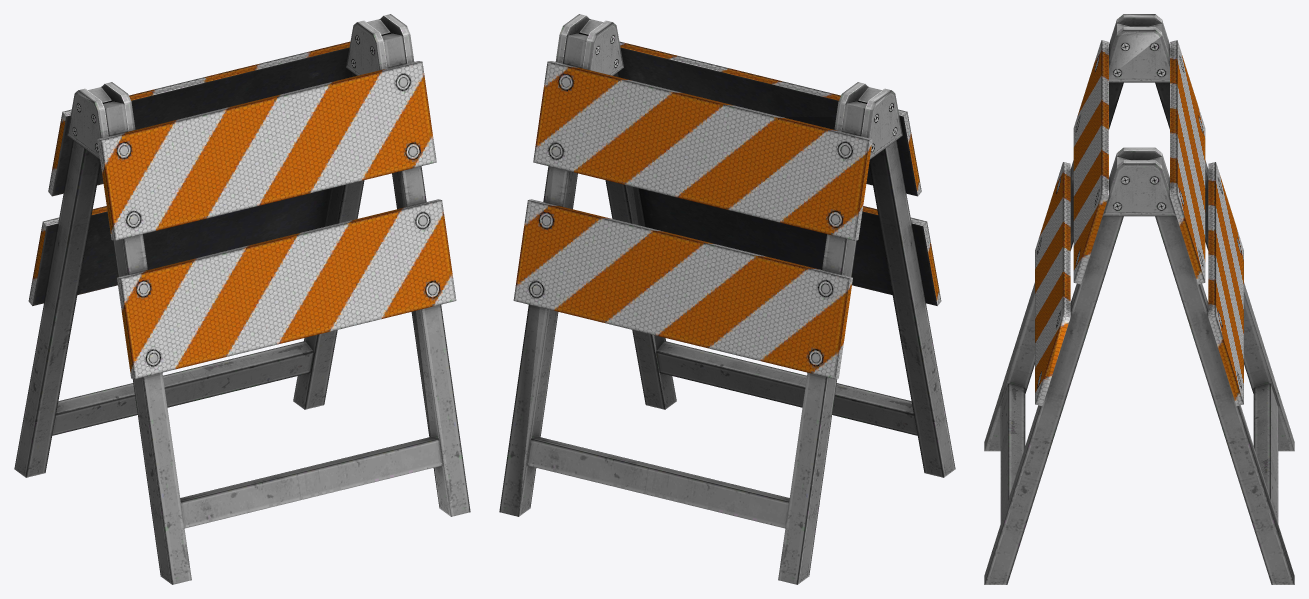
File: caution barrier (16).fbx
3 renders of one model, left to right at view 1: azimuth 30°, elevation 25°; view 2: azimuth 150°, elevation 25°; view 3: azimuth 270°, elevation 25°, orthographic.
Parts seen in each view (by area): view 1: caution_barrier__16_; view 2: caution_barrier__16_; view 3: caution_barrier__16_.
Part boxes in pixels (x1,y1,x2,y2): caution_barrier__16_: (14, 14, 470, 584); caution_barrier__16_: (499, 14, 955, 584); caution_barrier__16_: (984, 14, 1294, 584).
Size of the model in its own units: 181 by 233 by 154.
